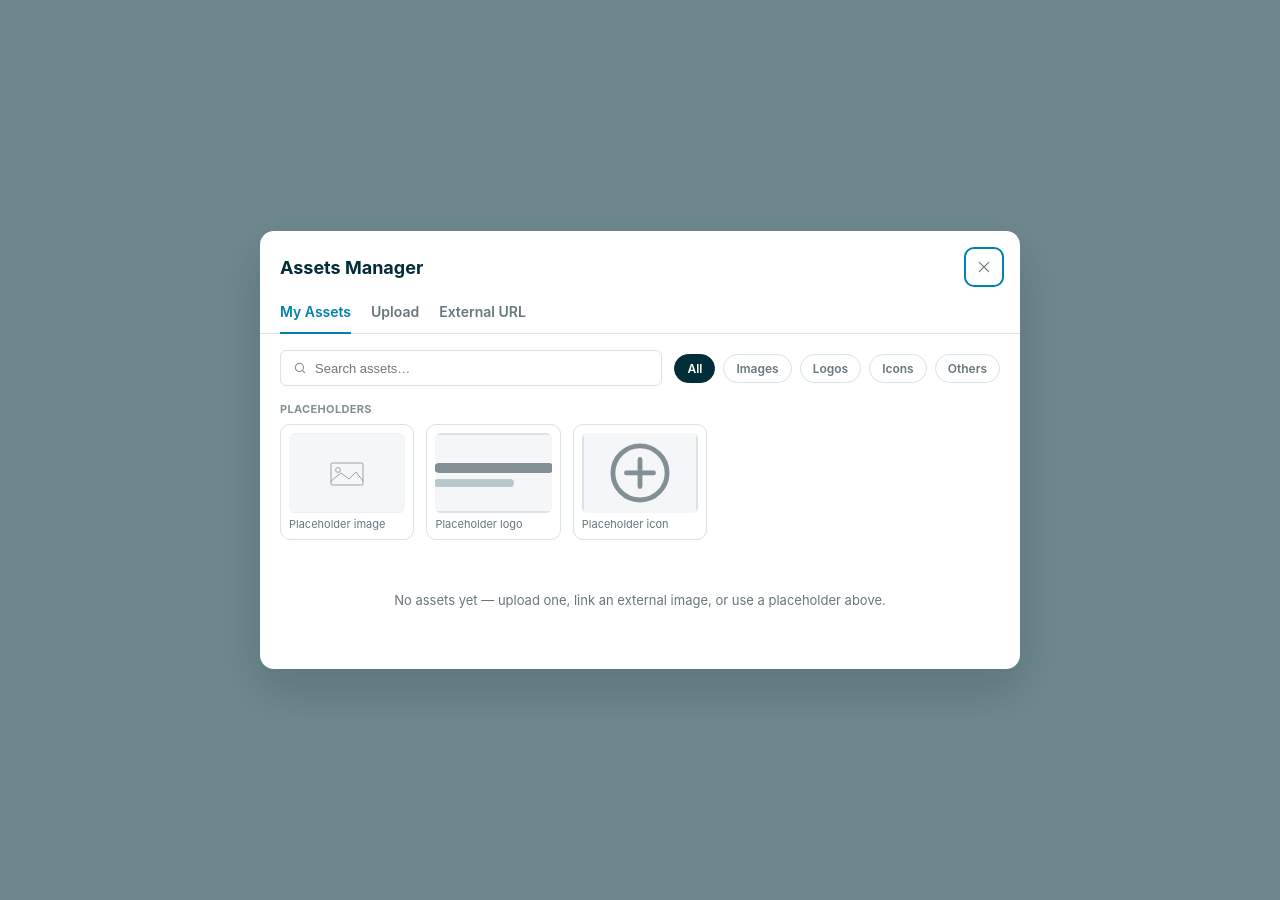
Test: AssetManagerDialog — upload tab › shows an error and does not switch tabs when no file is chosen
Expected: the text "Placeholder image" is shown, [289,517,385,531]
Step 1. Click the tab "Upload" → (395, 314), box [371,295,419,334]
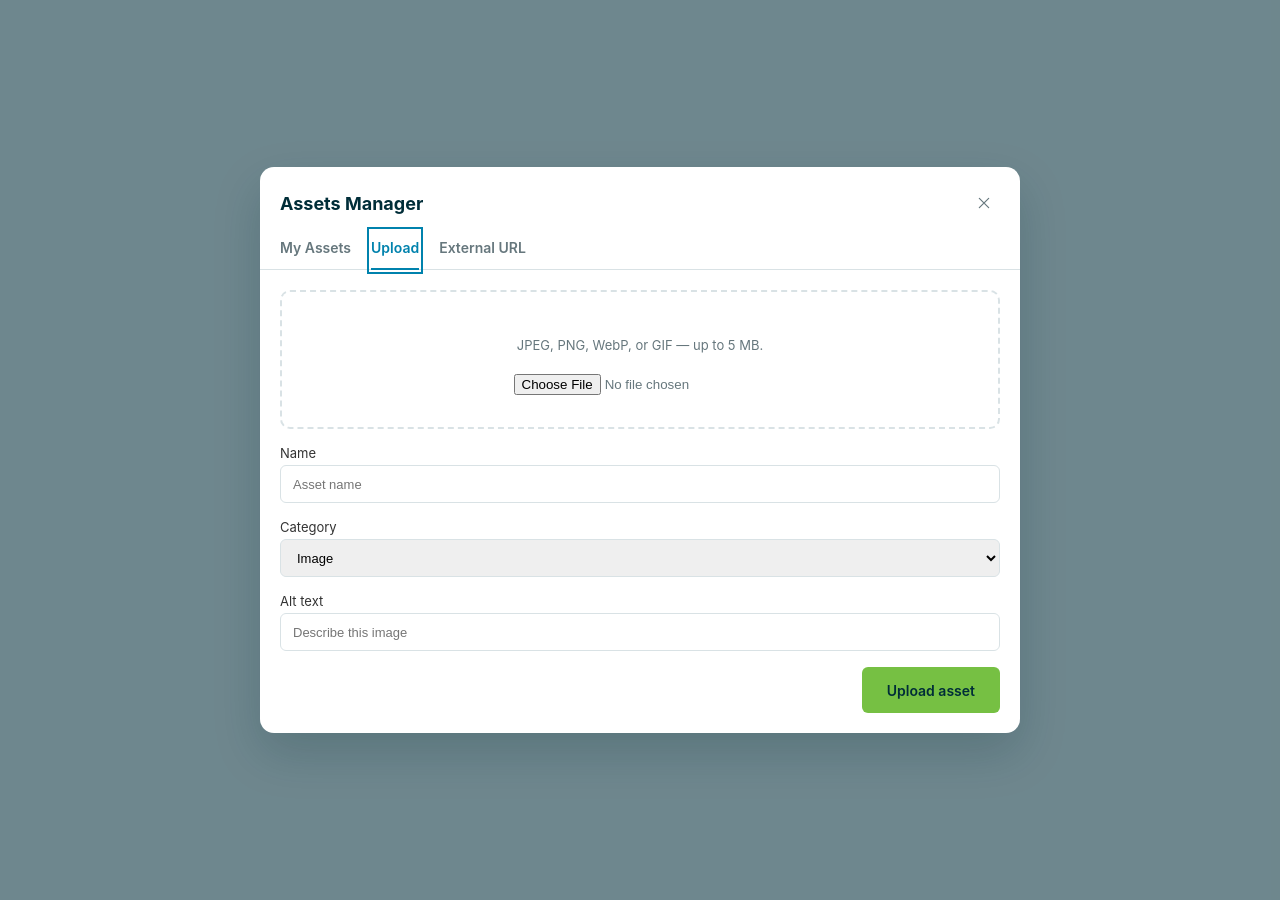
Step 2. Click the button "Upload asset" → (931, 690), box [862,667,1000,713]
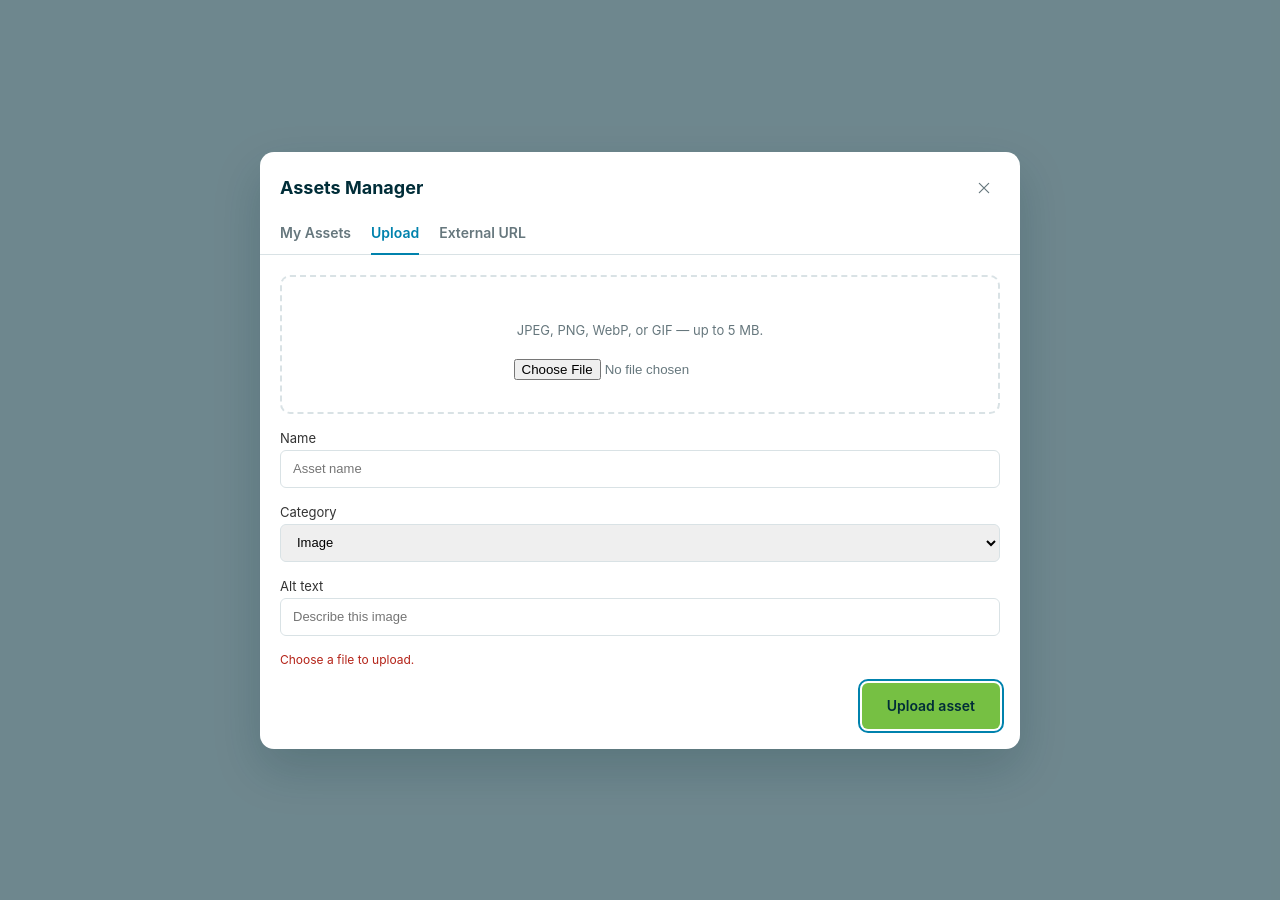
Now the text "Choose a file to upload." is shown, box [280,652,414,666]
